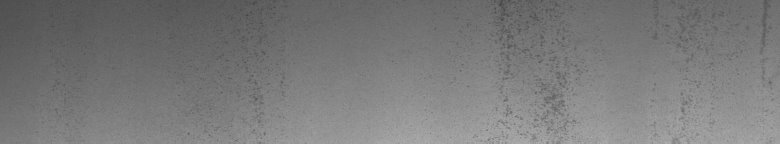ib: (486, 4, 584, 135)
